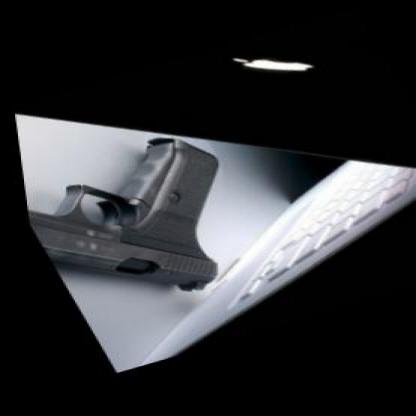pistol: (14, 120, 280, 328)
